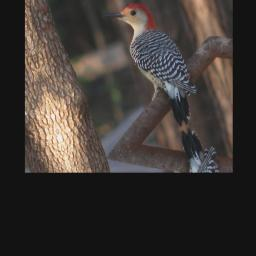Woodpecker: (100, 0, 205, 140)
